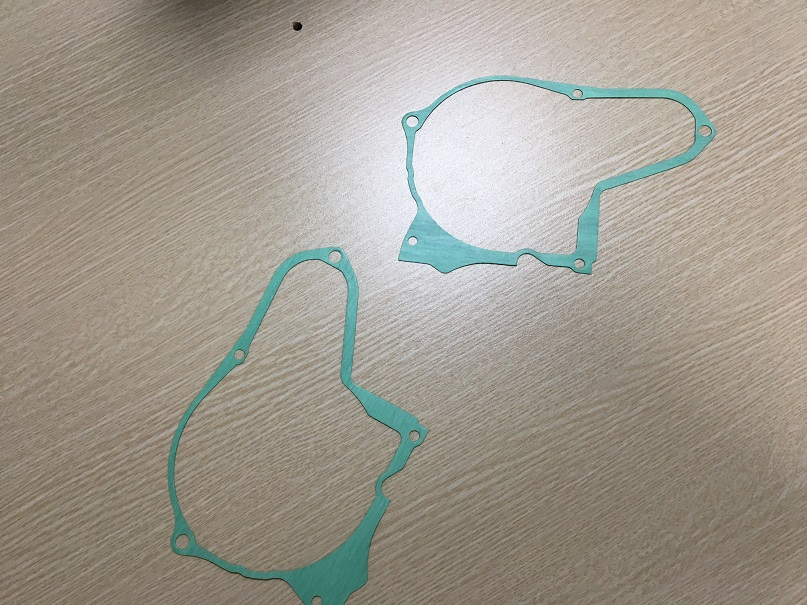type1: (157, 241, 431, 605), (393, 67, 727, 281)
